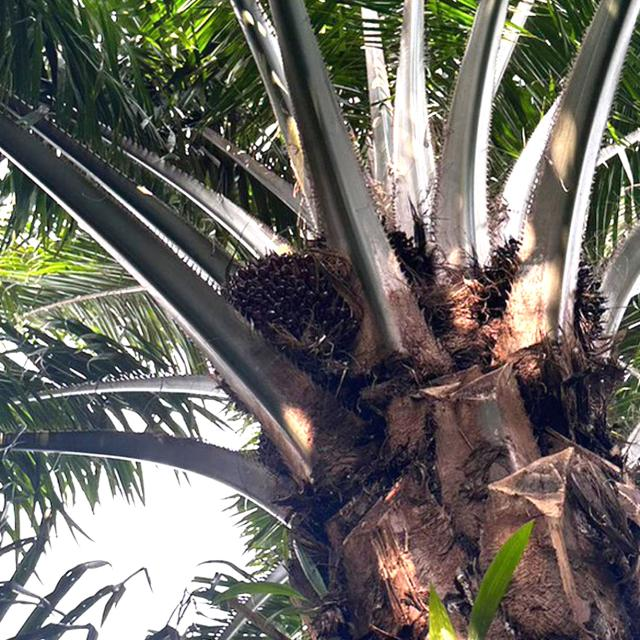unripe: (221, 247, 365, 356), (480, 234, 615, 348)
